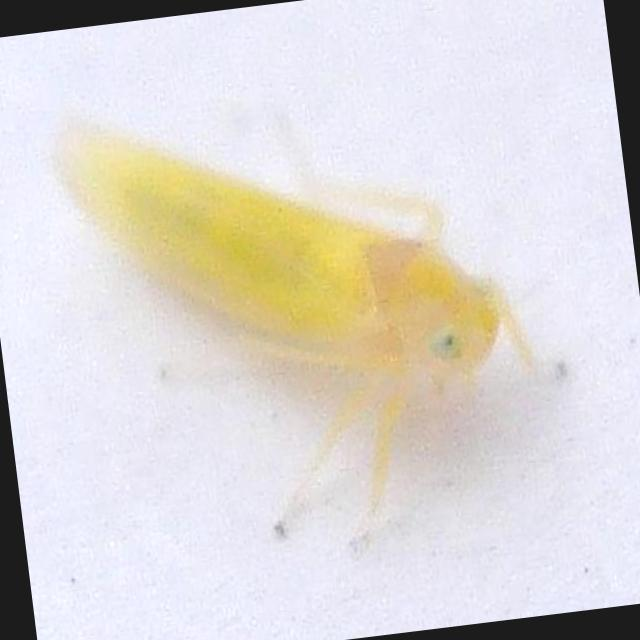green leaf hopper: (75, 143, 511, 488)
